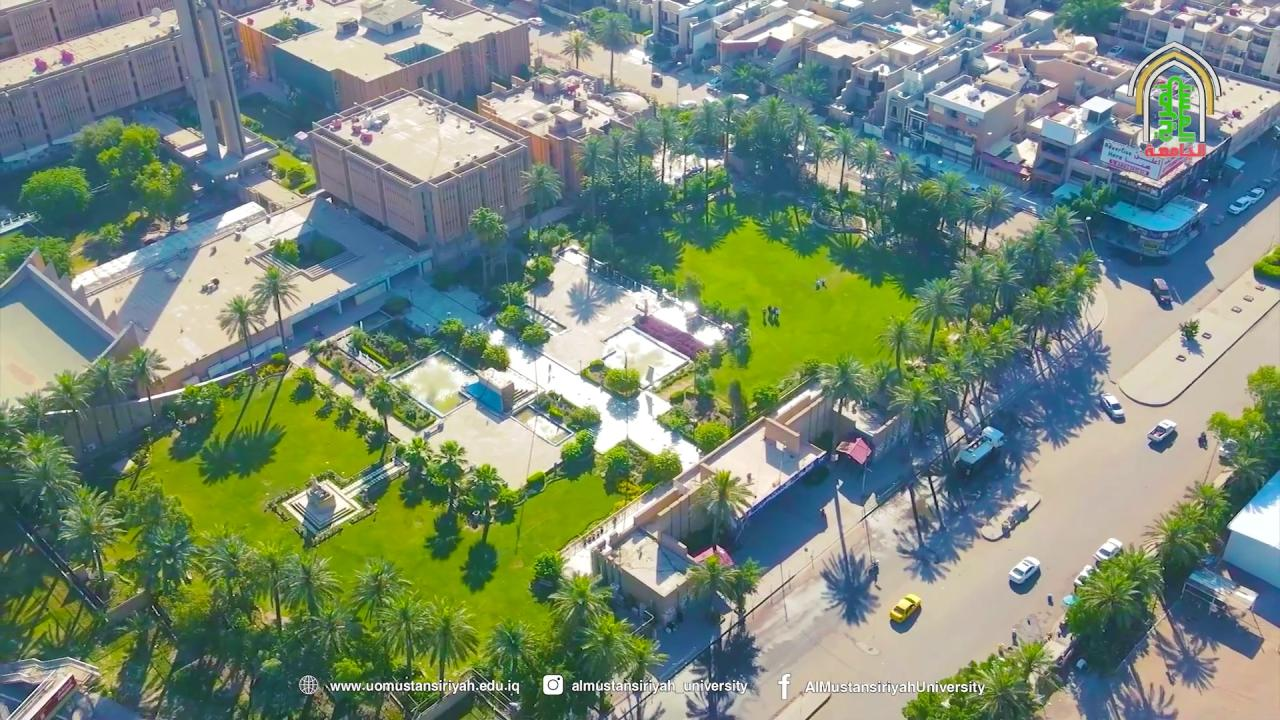car: (954, 425, 1004, 476), (1226, 186, 1264, 215), (889, 593, 921, 623), (1093, 538, 1123, 569), (1008, 556, 1040, 585), (1147, 418, 1177, 442), (1098, 393, 1124, 420), (1151, 277, 1172, 307), (1074, 565, 1098, 589), (1218, 438, 1239, 463), (528, 16, 544, 26)
fountain: (593, 320, 703, 392), (387, 350, 477, 417)
person: (1198, 431, 1208, 449)
tree: (480, 569, 668, 719), (901, 637, 1064, 719), (1205, 363, 1279, 492), (1065, 543, 1165, 638), (56, 483, 127, 602), (373, 595, 433, 718), (6, 428, 81, 523), (192, 520, 258, 626), (417, 593, 479, 700), (577, 612, 638, 718), (193, 420, 286, 485), (1140, 498, 1217, 572), (960, 315, 1021, 407), (244, 537, 300, 635), (688, 467, 756, 545), (345, 556, 413, 630), (136, 516, 198, 597), (276, 548, 342, 622), (18, 164, 92, 227), (909, 275, 964, 359), (250, 265, 302, 353), (40, 367, 95, 450), (215, 293, 267, 378), (95, 121, 161, 186), (620, 634, 670, 718), (68, 115, 124, 188), (460, 462, 509, 543), (81, 354, 131, 433), (545, 569, 613, 627), (482, 616, 539, 684), (0, 231, 74, 282), (1012, 283, 1062, 358), (886, 375, 941, 443), (130, 158, 182, 229), (814, 352, 873, 414), (570, 134, 610, 222), (683, 554, 737, 619), (122, 345, 170, 418), (1182, 479, 1231, 550), (719, 556, 764, 631), (949, 255, 996, 325), (591, 10, 634, 86), (518, 160, 564, 230), (918, 168, 967, 232), (429, 438, 469, 514), (873, 312, 922, 374), (824, 122, 865, 196), (602, 367, 642, 442), (970, 183, 1015, 248), (394, 434, 434, 507), (177, 379, 238, 423), (1051, 0, 1123, 36), (645, 113, 681, 183), (599, 129, 633, 202), (775, 58, 828, 102), (458, 540, 498, 593), (518, 322, 548, 390), (565, 276, 607, 324), (1040, 201, 1082, 248), (523, 253, 555, 314), (467, 206, 508, 253), (368, 379, 400, 436), (559, 428, 596, 477), (530, 549, 566, 598), (598, 444, 634, 493), (641, 446, 682, 487), (692, 97, 724, 147), (804, 131, 835, 180), (692, 420, 731, 456), (1246, 363, 1280, 404), (561, 26, 591, 70), (601, 367, 641, 399), (725, 322, 752, 369), (688, 348, 714, 396), (890, 151, 920, 192), (459, 326, 489, 366), (563, 403, 601, 434), (851, 136, 880, 175), (727, 378, 748, 430), (436, 314, 464, 353), (1205, 410, 1233, 445), (494, 304, 526, 333), (497, 280, 529, 307), (481, 342, 510, 371), (751, 383, 780, 412), (271, 237, 300, 265), (518, 322, 548, 348), (346, 327, 368, 356), (1177, 316, 1200, 343), (411, 336, 436, 360)
